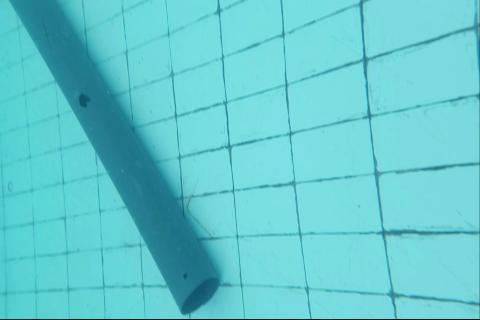kebocoran: (78, 92, 90, 108), (183, 272, 188, 279)
